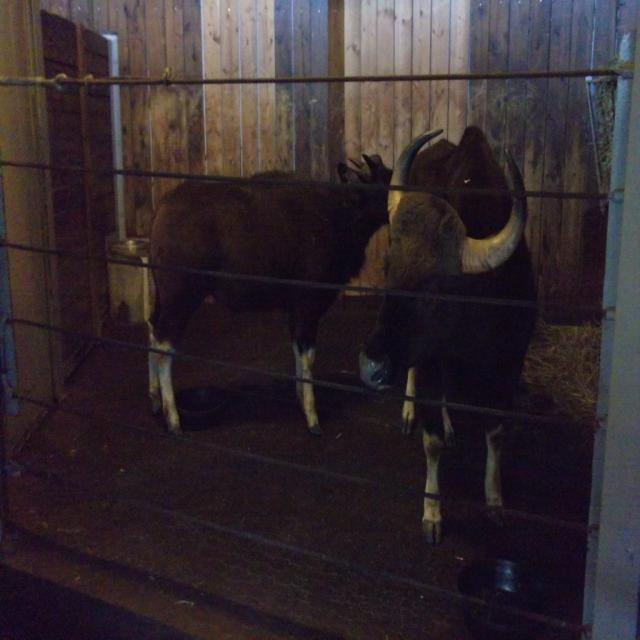Cattle: (358, 126, 539, 544), (146, 154, 394, 440)
